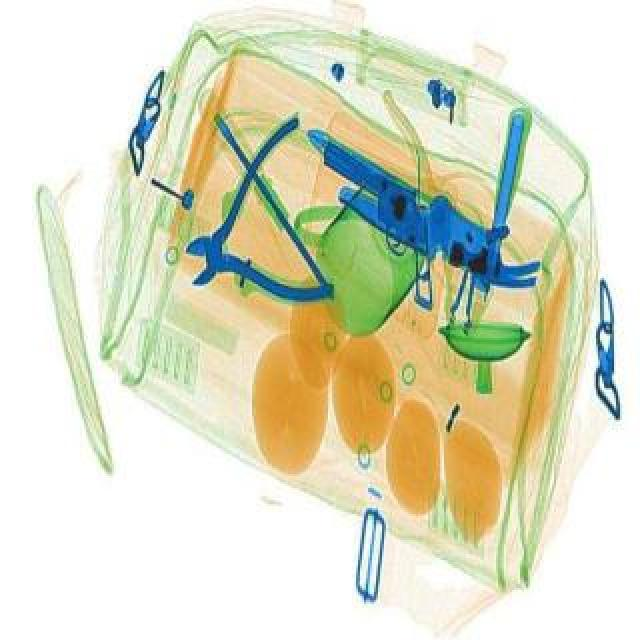gun: (294, 122, 490, 318)
wrench: (146, 118, 366, 342)
